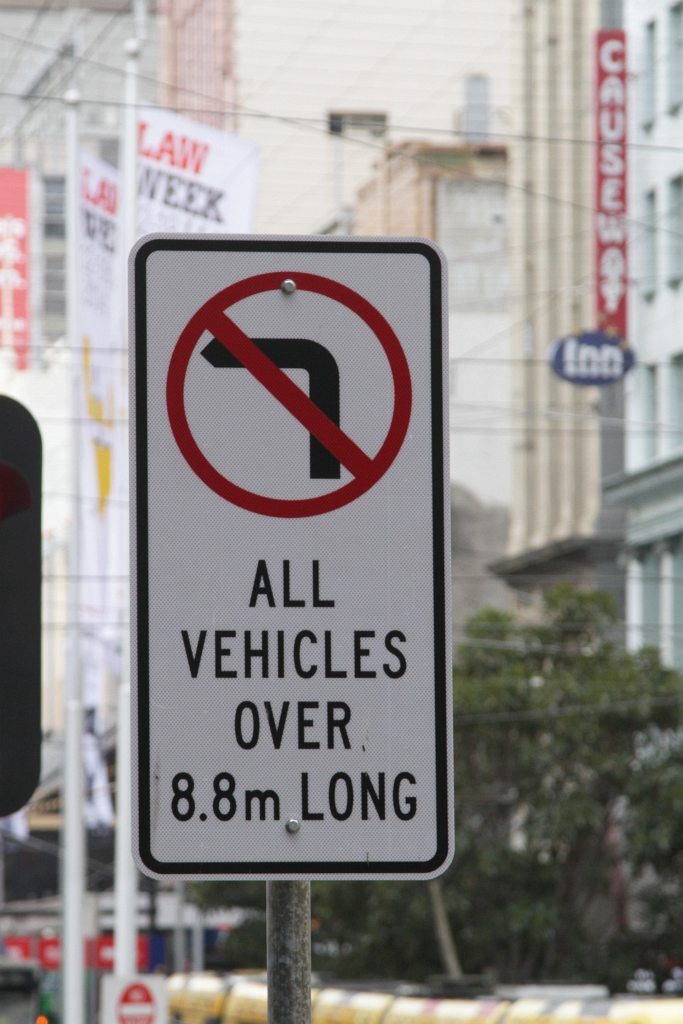No_left_turn: (164, 270, 414, 518)
